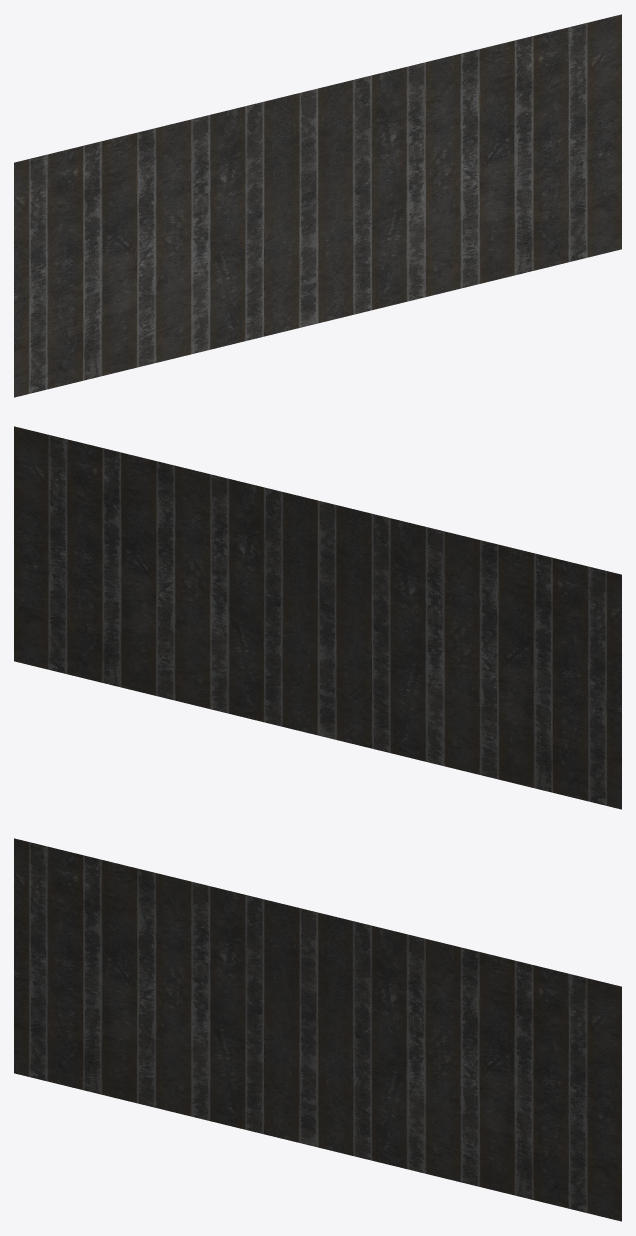
File: square_window_top.fbx
3 views of the same model, one above another, from view 1: azimuth 30°, elevation 25°; view 2: azimuth 150°, elevation 25°; view 3: azimuth 330°, elevation 25° (orthographic).
Visible parts, largest first — view 1: square_window_top; view 2: square_window_top; view 3: square_window_top.
Part boxes in pixels (<box>): square_window_top: <box>14,14,621,397</box>; square_window_top: <box>14,426,621,809</box>; square_window_top: <box>14,838,621,1221</box>.
Size of the model in its own units: 500 by 185 by 0.
